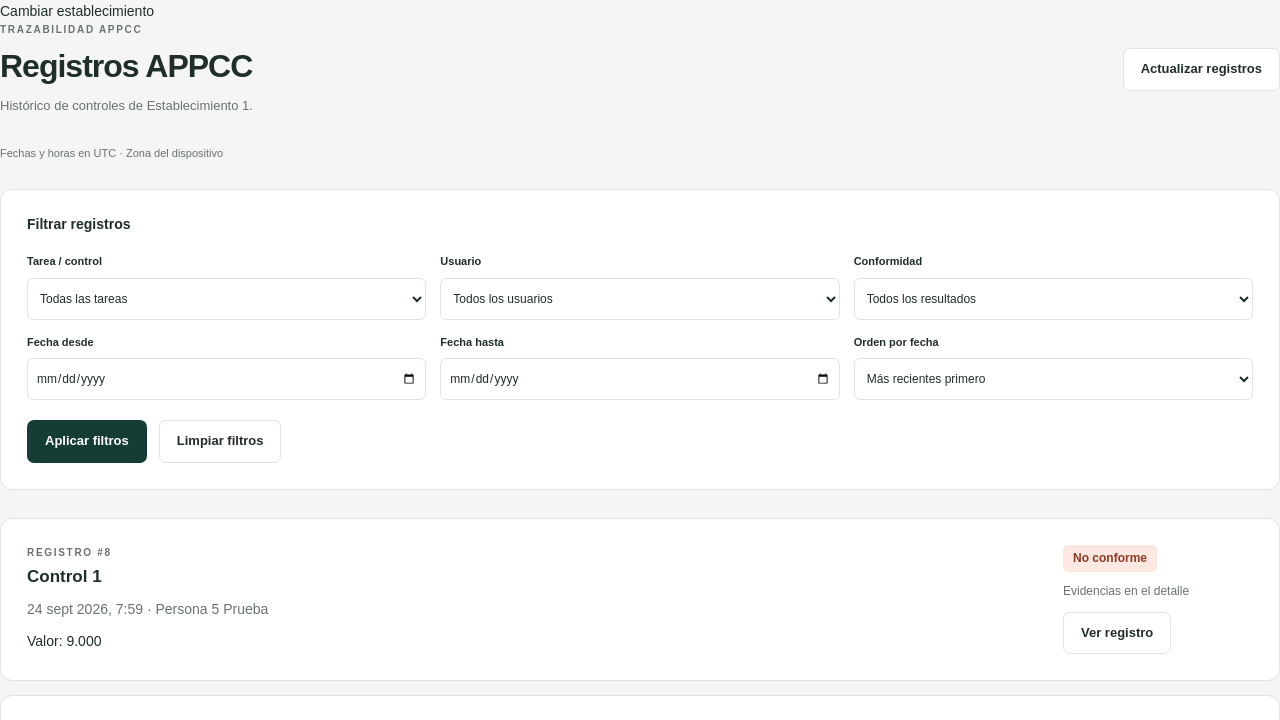
Test: 401 válido en detalle retira el contenido privado
Click the button with aria-label "Ver registro #8": (1117, 633) [1063, 612, 1171, 654]
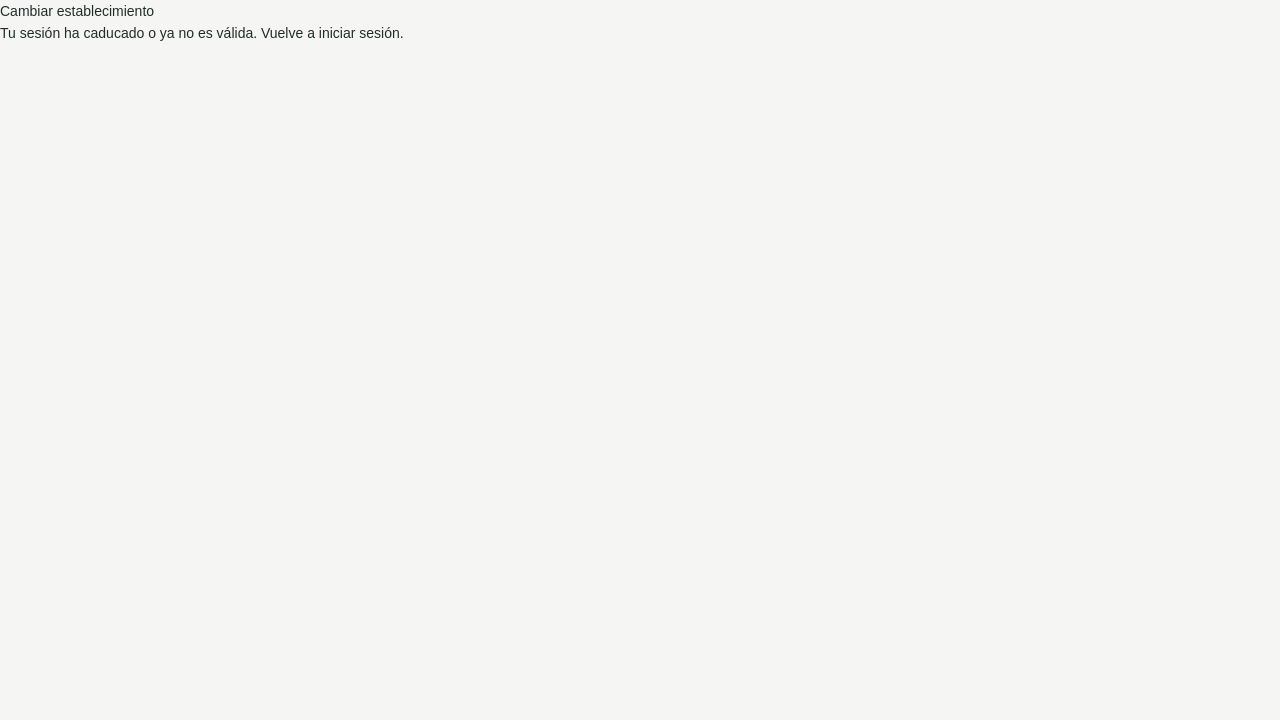
Check: the message shows "sesión ha caducado", box [0, 25, 404, 41]
